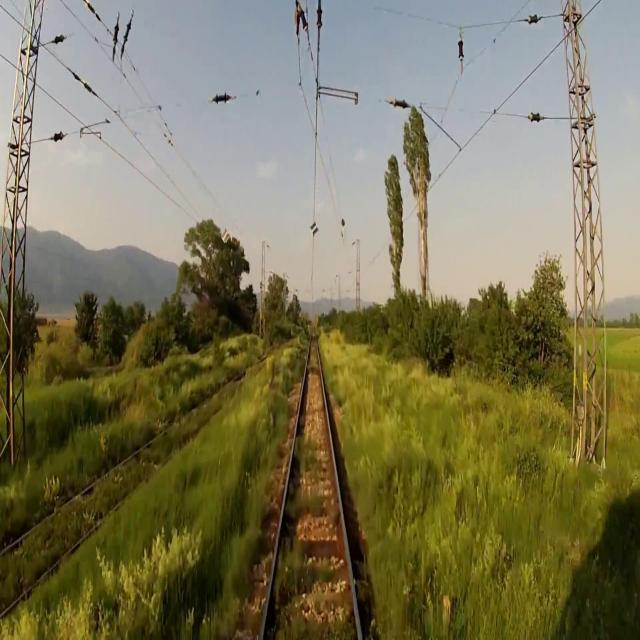rail-track: (264, 330, 357, 639)
